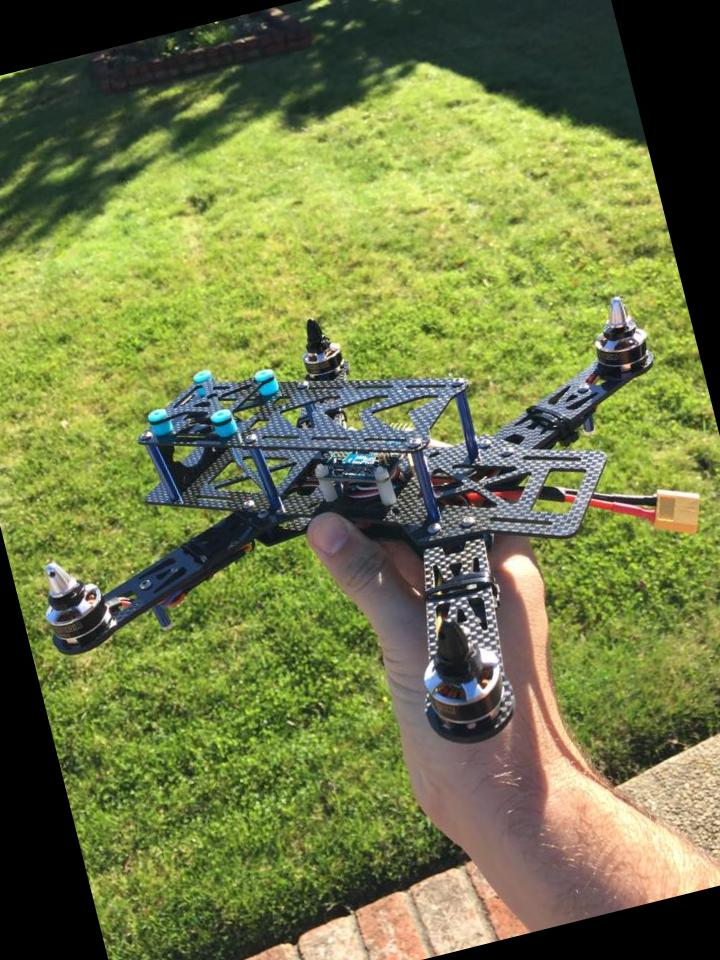drone: (0, 238, 720, 839)
